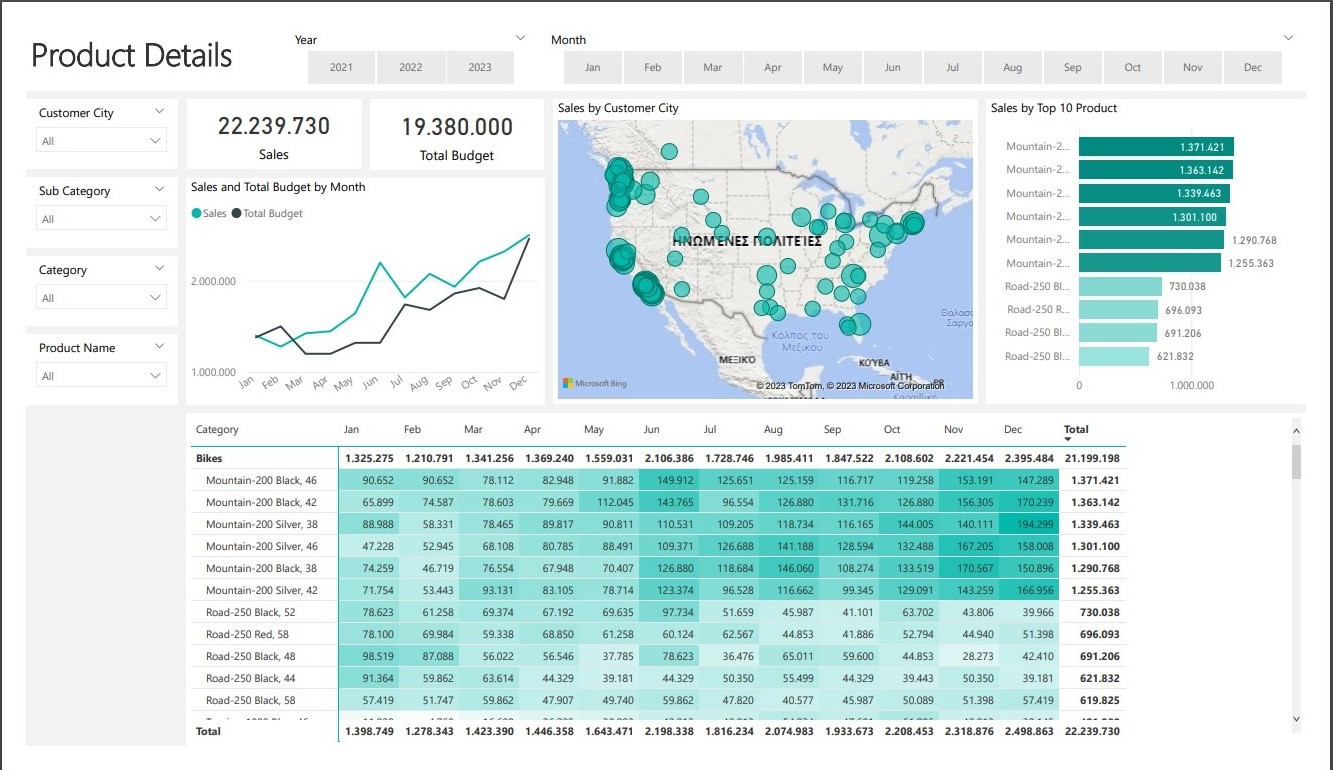

The dashboard page shown, as its layout file describes it:
{"tool":"powerbi","page":{"name":"Product Details","canvas":[1280,720],"ordinal":2},"visuals":[{"type":"textbox","box":[0,0,1280,64],"z":0},{"type":"slicer","fields":{"Values":["DIM_Calendar.Year"]},"box":[256,0,256,64],"z":1000},{"type":"slicer","fields":{"Values":["DIM_Calendar.MonthShort"]},"box":[512,0,768,64],"z":2000},{"type":"slicer","fields":{"Values":["DIM_Customers.Customer City"]},"box":[0,73,150.5,69.3],"z":3000},{"type":"slicer","fields":{"Values":["DIM_Products.Product Category"]},"box":[0,229.9,150.5,69.3],"z":4000},{"type":"slicer","fields":{"Values":["DIM_Products.Product Name"]},"box":[0,308.4,150.5,69.3],"z":5000},{"type":"slicer","fields":{"Values":["DIM_Products.Sub Category"]},"box":[0,151.4,150.5,69.3],"z":6000},{"type":"lineChart","fields":{"Category":["DIM_Calendar.MonthShort"],"Y":["Key_Measures.Sales","Key_Measures.Total Budget"]},"box":[159.8,151.8,358.7,226.4],"z":7000},{"type":"card","fields":{"Values":["Key_Measures.Sales"]},"box":[160.7,72.8,174,69.2],"z":8000},{"type":"map","fields":{"Category":["DIM_Customers.Customer City"],"Size":["Key_Measures.Sales"]},"box":[527.3,72.8,423.5,304.5],"z":9000},{"type":"card","fields":{"Values":["Key_Measures.Total Budget"]},"box":[343.6,72.8,174.9,70.1],"z":10000},{"type":"pivotTable","fields":{"Rows":["DIM_Products.Product Category","DIM_Products.Product Name"],"Columns":["DIM_Calendar.MonthShort"],"Values":["Key_Measures.Sales"]},"box":[159.8,387.1,1120.4,332.9],"z":11000},{"type":"clusteredBarChart","title":"Sales by Top 10 Product","fields":{"Category":["DIM_Products.Product Name"],"Y":["Key_Measures.Sales"]},"box":[959.7,72.8,320.5,304.5],"z":12000}]}

Visuals, with their boxes in screenshot pixels (x1, y1, x2, y2), scaled from the page's 1280x720 canvas onto the 1333x770 screenshot:
textbox: detection(0, 0, 1332, 68)
slicer - DIM_Calendar.Year: detection(267, 0, 533, 68)
slicer - DIM_Calendar.MonthShort: detection(533, 0, 1332, 68)
slicer - DIM_Customers.Customer City: detection(0, 78, 157, 152)
slicer - DIM_Products.Product Category: detection(0, 246, 157, 320)
slicer - DIM_Products.Product Name: detection(0, 330, 157, 404)
slicer - DIM_Products.Sub Category: detection(0, 162, 157, 236)
lineChart - DIM_Calendar.MonthShort x Key_Measures.Sales: detection(166, 162, 540, 404)
card - Key_Measures.Sales: detection(167, 78, 349, 152)
map - DIM_Customers.Customer City x Key_Measures.Sales: detection(549, 78, 990, 404)
card - Key_Measures.Total Budget: detection(358, 78, 540, 153)
pivotTable - DIM_Products.Product Category x DIM_Products.Product Name: detection(166, 414, 1332, 769)
"Sales by Top 10 Product" clusteredBarChart: detection(999, 78, 1332, 404)
